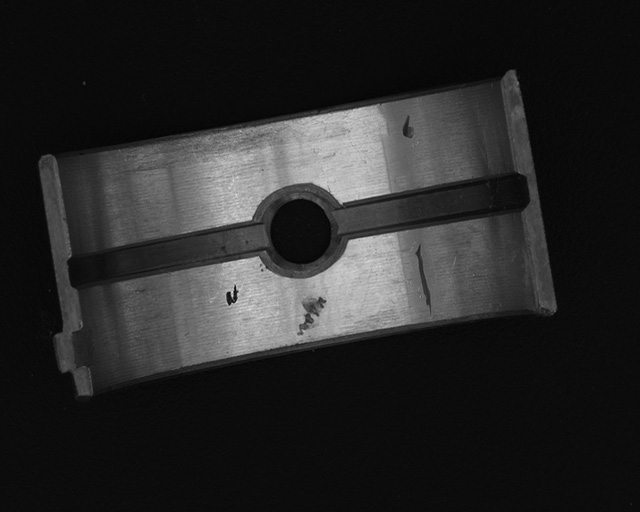blot: (224, 283, 240, 307)
bruise: (296, 296, 326, 336), (402, 115, 414, 139)
gap: (69, 222, 268, 287), (336, 175, 526, 240)
hole: (259, 186, 343, 272)
nick: (415, 243, 433, 316)
scratch: (125, 119, 292, 173)
